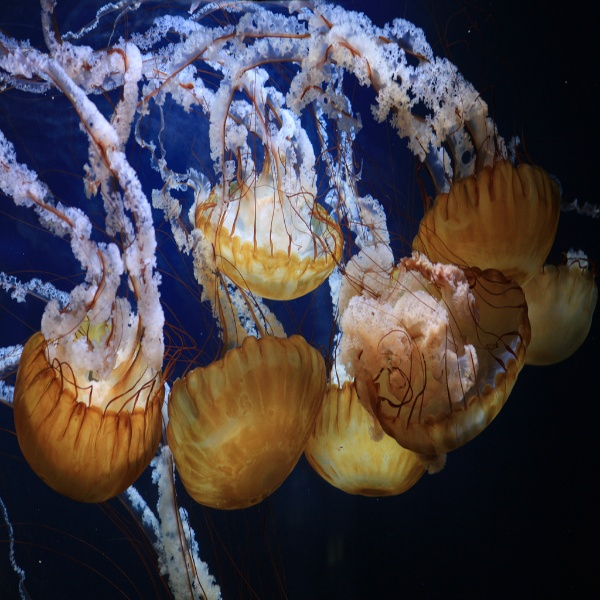Jellyfish: (154, 0, 599, 498), (0, 42, 206, 501)
